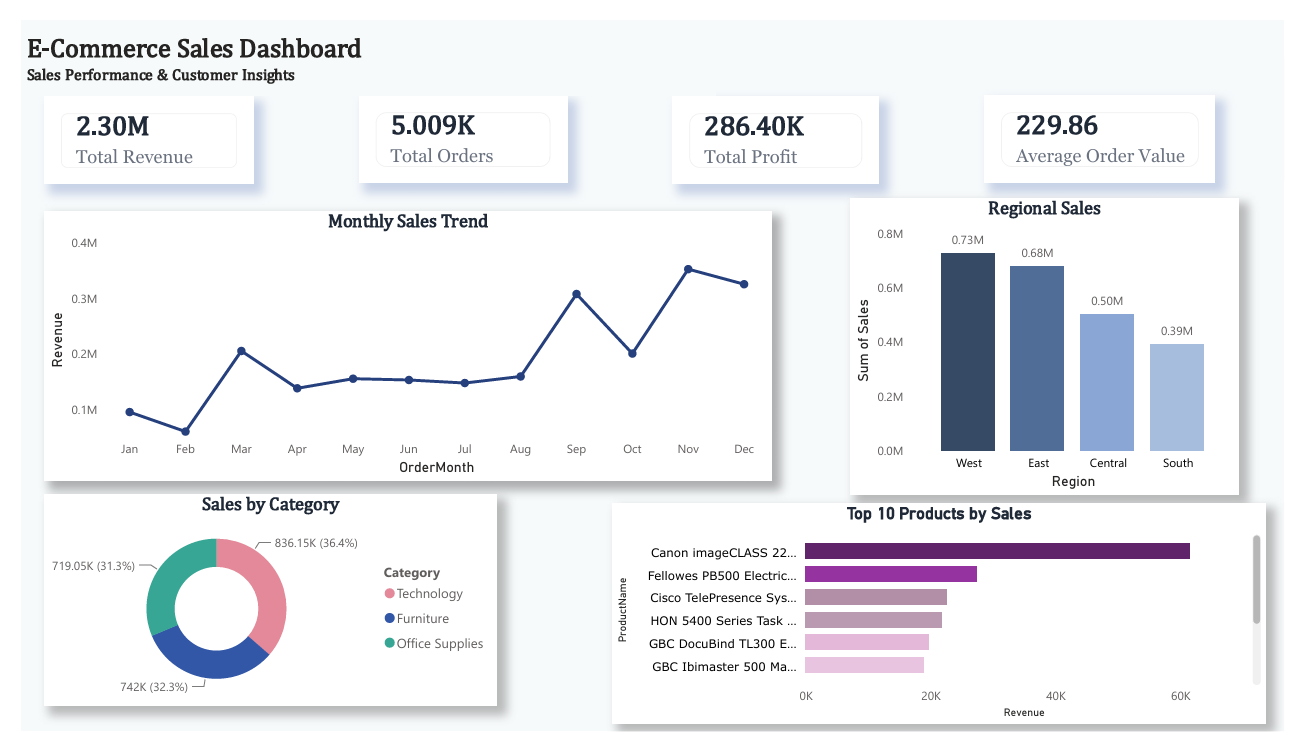

This screenshot's page, from the dashboard's own definition file:
{"tool":"powerbi","page":{"name":"Dashboard","canvas":[1280,720],"ordinal":0},"visuals":[{"type":"cardVisual","fields":{"Data":["Sum(shopify_project superstore.Profit)"]},"box":[660,77,209,89],"z":0},{"type":"cardVisual","fields":{"Data":["Count(shopify_project superstore.OrderID)"]},"box":[342,76,211,89],"z":1000},{"type":"cardVisual","fields":{"Data":["Avg(shopify_project superstore.Sales)"]},"box":[976,76,234,89],"z":2000},{"type":"cardVisual","fields":{"Data":["Sum(shopify_project superstore.Sales)"]},"box":[23,77,212,89],"z":3000},{"type":"textbox","box":[0,9,704,67],"z":4000},{"type":"lineChart","title":"Monthly Sales Trend","fields":{"Y":["Sum(shopify_project superstore.Sales)"],"Category":["shopify_project superstore.OrderMonth"]},"box":[23.3,193.3,736.7,272.2],"z":5000},{"type":"clusteredColumnChart","title":"Regional Sales","fields":{"Category":["shopify_project superstore.Region"],"Y":["Sum(shopify_project superstore.Sales)"]},"box":[840,180,394.3,300],"z":6000},{"type":"donutChart","title":"Sales by Category","fields":{"Y":["Sum(shopify_project superstore.Sales)"],"Category":["shopify_project superstore.Category"]},"box":[23.3,480,458.9,214.4],"z":7000},{"type":"clusteredBarChart","title":"Top 10 Products by Sales","fields":{"Y":["Sum(shopify_project superstore.Sales)"],"Category":["shopify_project superstore.ProductName"]},"box":[598.9,488.9,662.2,223.3],"z":8000}]}

Visuals, with their boxes in screenshot pixels (x1, y1, x2, y2), scaled from the page's 1280x720 canvas onto the 1302x746 screenshot:
cardVisual - Sum(shopify_project superstore.Profit): box=[671, 80, 884, 172]
cardVisual - Count(shopify_project superstore.OrderID): box=[348, 79, 563, 171]
cardVisual - Avg(shopify_project superstore.Sales): box=[993, 79, 1231, 171]
cardVisual - Sum(shopify_project superstore.Sales): box=[23, 80, 239, 172]
textbox: box=[0, 9, 716, 79]
"Monthly Sales Trend" lineChart: box=[24, 200, 773, 482]
"Regional Sales" clusteredColumnChart: box=[854, 187, 1256, 497]
"Sales by Category" donutChart: box=[24, 497, 490, 719]
"Top 10 Products by Sales" clusteredBarChart: box=[609, 507, 1283, 738]
